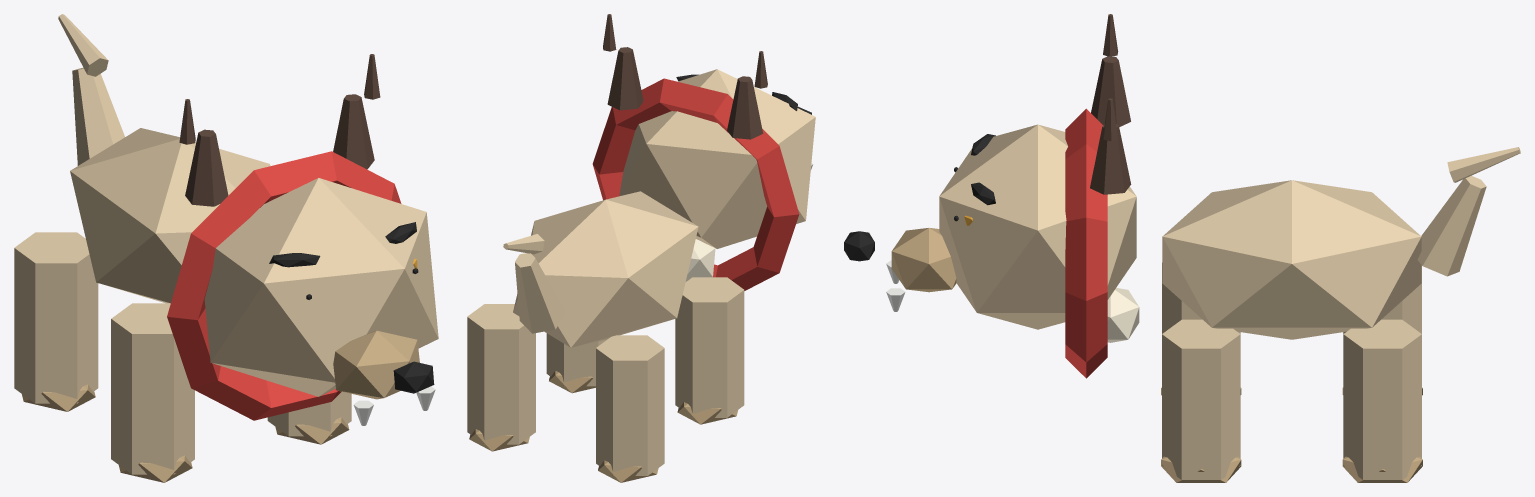
Rendered from Rex.fbx.
3 views of the same model, side by side, from view 1: azimuth 30°, elevation 25°; view 2: azimuth 150°, elevation 25°; view 3: azimuth 270°, elevation 25° (orthographic). The views are drawn at different scales.
Visible parts, largest first — view 1: Head, Body, Collar, Leg_Back_L, Leg_Front_L, Muzzle, Tail_Base, Ear_L_Base, Ear_R_Base, Leg_Front_R, Tail_Tip, Nose (+6 smaller); view 2: Body, Head, Collar, Leg_Back_L, Leg_Front_L, Leg_Back_R, Tail_Base, Leg_Front_R, Ear_L_Base, Ear_R_Base, Chest, Paw_Back_R (+4 smaller); view 3: Body, Head, Leg_Back_R, Leg_Front_R, Collar, Tail_Base, Muzzle, Ear_R_Base, Ear_L_Base, Chest, Tail_Tip, Leg_Front_L (+2 smaller).
Part boxes in pixels (x1,y1,x2,y2): Head: [204, 178, 438, 396]; Body: [70, 128, 270, 303]; Collar: [167, 151, 401, 420]; Leg_Back_L: [14, 232, 98, 403]; Leg_Front_L: [111, 303, 194, 474]; Muzzle: [333, 330, 419, 399]; Tail_Base: [72, 67, 124, 165]; Ear_L_Base: [185, 129, 228, 206]; Ear_R_Base: [333, 94, 374, 169]; Leg_Front_R: [267, 391, 351, 436]; Tail_Tip: [58, 14, 108, 76]; Nose: [393, 361, 434, 393]; Body: [513, 191, 698, 347]; Head: [619, 69, 815, 248]; Collar: [592, 78, 799, 290]; Leg_Back_L: [596, 335, 664, 475]; Leg_Front_L: [675, 277, 744, 417]; Leg_Back_R: [467, 304, 535, 444]; Tail_Base: [515, 253, 566, 333]; Leg_Front_R: [546, 333, 607, 386]; Ear_L_Base: [727, 76, 763, 139]; Ear_R_Base: [607, 47, 643, 110]; Chest: [685, 239, 715, 281]; Paw_Back_R: [469, 429, 529, 451]; Body: [1162, 180, 1421, 339]; Head: [939, 124, 1136, 329]; Leg_Back_R: [1343, 319, 1421, 479]; Leg_Front_R: [1162, 319, 1240, 479]; Collar: [1065, 108, 1107, 378]; Tail_Base: [1417, 175, 1486, 276]; Muzzle: [891, 228, 956, 292]; Ear_R_Base: [1090, 124, 1131, 194]; Ear_L_Base: [1091, 56, 1130, 126]; Chest: [1107, 288, 1139, 342]; Tail_Tip: [1447, 147, 1520, 182]; Leg_Front_L: [1162, 262, 1240, 333].
Size of the model in its own units: 45 by 70.75 by 112.
